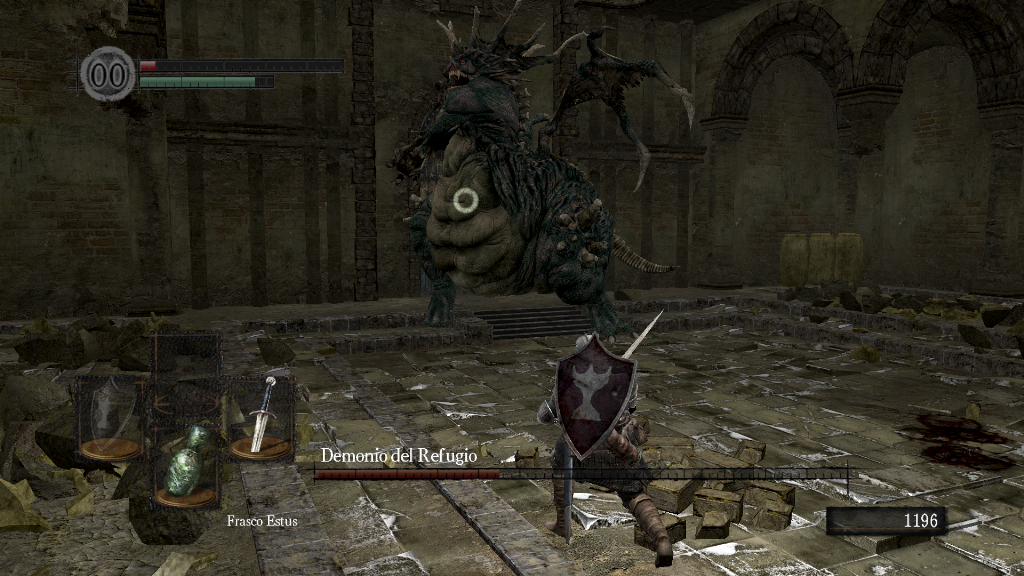asylumDemon: (386, 2, 698, 349)
bossHP: (314, 469, 847, 479)
health: (138, 58, 343, 71)
humanity: (80, 45, 136, 102)
player: (535, 310, 678, 568)
souls: (825, 506, 945, 536)
stamina: (138, 74, 274, 88)
